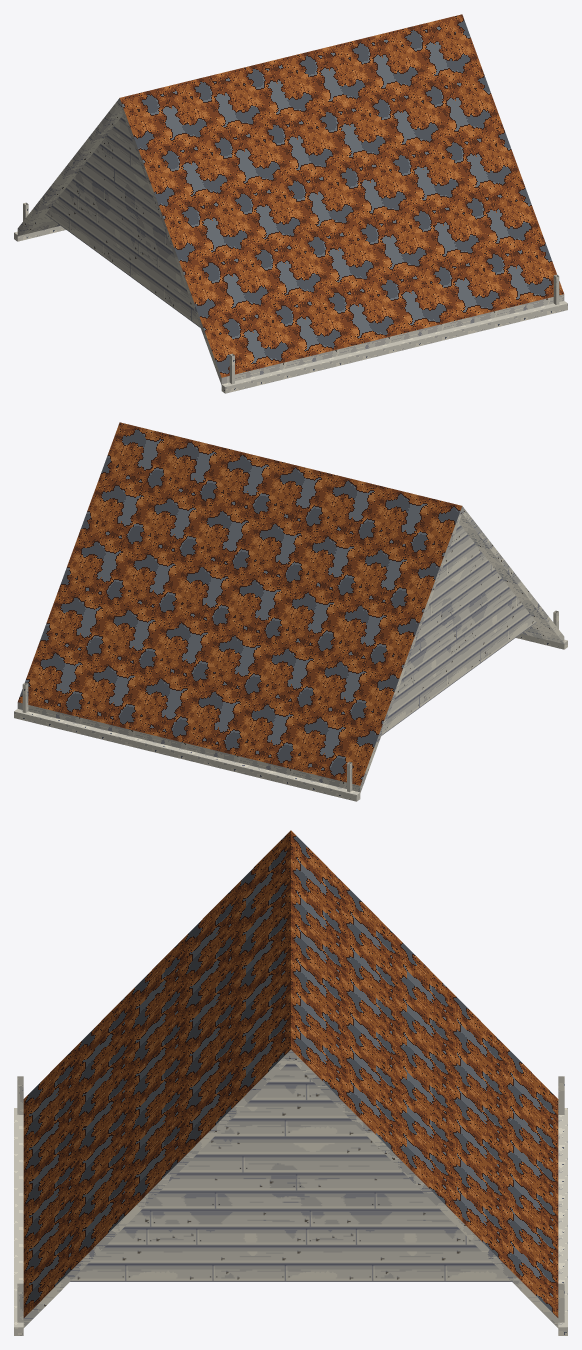
File: RES_Ext_Roof_Gable_Steep_6x6.obj
The picture shows the model from 3 angles, top to bottom: view 1: azimuth 30°, elevation 25°; view 2: azimuth 150°, elevation 25°; view 3: azimuth 270°, elevation 25°; orthographic projection. The views are drawn at different scales.
Parts seen in each view (by area): view 1: RES_Ext_Roof_Gable_Steep_6x6_Mesh_M_Furn_MetalRusted, RES_Ext_Roof_Gable_Steep_6x6_Mesh_M_Arch_SidingWhite, RES_Ext_Roof_Gable_Steep_6x6_Mesh_M_Arch_TrimPainted, RES_Ext_Roof_Gable_Steep_6x6_Mesh_M_Town_PaintWhite; view 2: RES_Ext_Roof_Gable_Steep_6x6_Mesh_M_Furn_MetalRusted, RES_Ext_Roof_Gable_Steep_6x6_Mesh_M_Arch_SidingWhite, RES_Ext_Roof_Gable_Steep_6x6_Mesh_M_Arch_TrimPainted, RES_Ext_Roof_Gable_Steep_6x6_Mesh_M_Town_PaintWhite; view 3: RES_Ext_Roof_Gable_Steep_6x6_Mesh_M_Furn_MetalRusted, RES_Ext_Roof_Gable_Steep_6x6_Mesh_M_Arch_SidingWhite, RES_Ext_Roof_Gable_Steep_6x6_Mesh_M_Arch_TrimPainted, RES_Ext_Roof_Gable_Steep_6x6_Mesh_M_Town_PaintWhite.
Part boxes in pixels (bbox=[...]): RES_Ext_Roof_Gable_Steep_6x6_Mesh_M_Furn_MetalRusted: bbox=[120, 14, 563, 377]; RES_Ext_Roof_Gable_Steep_6x6_Mesh_M_Arch_SidingWhite: bbox=[45, 115, 200, 327]; RES_Ext_Roof_Gable_Steep_6x6_Mesh_M_Arch_TrimPainted: bbox=[17, 98, 564, 384]; RES_Ext_Roof_Gable_Steep_6x6_Mesh_M_Town_PaintWhite: bbox=[14, 202, 567, 393]; RES_Ext_Roof_Gable_Steep_6x6_Mesh_M_Furn_MetalRusted: bbox=[18, 422, 461, 785]; RES_Ext_Roof_Gable_Steep_6x6_Mesh_M_Arch_SidingWhite: bbox=[381, 523, 536, 735]; RES_Ext_Roof_Gable_Steep_6x6_Mesh_M_Arch_TrimPainted: bbox=[17, 506, 564, 792]; RES_Ext_Roof_Gable_Steep_6x6_Mesh_M_Town_PaintWhite: bbox=[14, 610, 567, 801]; RES_Ext_Roof_Gable_Steep_6x6_Mesh_M_Furn_MetalRusted: bbox=[23, 830, 558, 1317]; RES_Ext_Roof_Gable_Steep_6x6_Mesh_M_Arch_SidingWhite: bbox=[70, 1060, 511, 1281]; RES_Ext_Roof_Gable_Steep_6x6_Mesh_M_Arch_TrimPainted: bbox=[23, 1050, 558, 1327]; RES_Ext_Roof_Gable_Steep_6x6_Mesh_M_Town_PaintWhite: bbox=[14, 1076, 567, 1335].
Bounding box in the file's own units: 6.5 × 3.96 × 6.94.
Materials: 4 (4 with a texture image).
